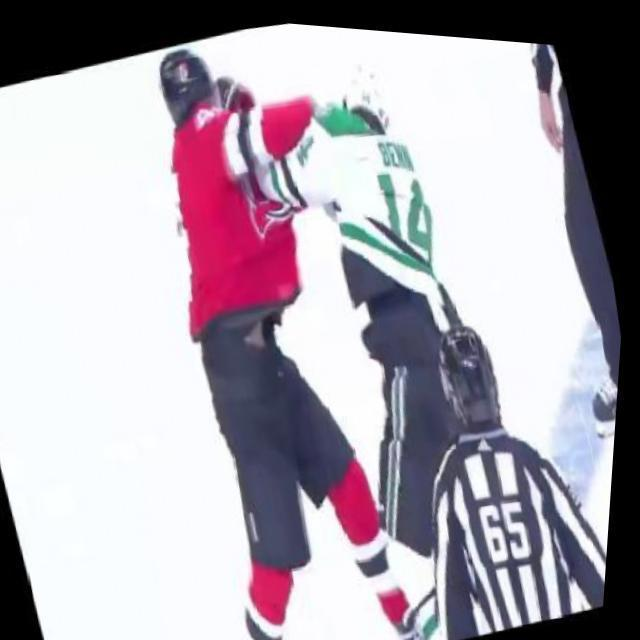fight: (82, 7, 535, 584)
